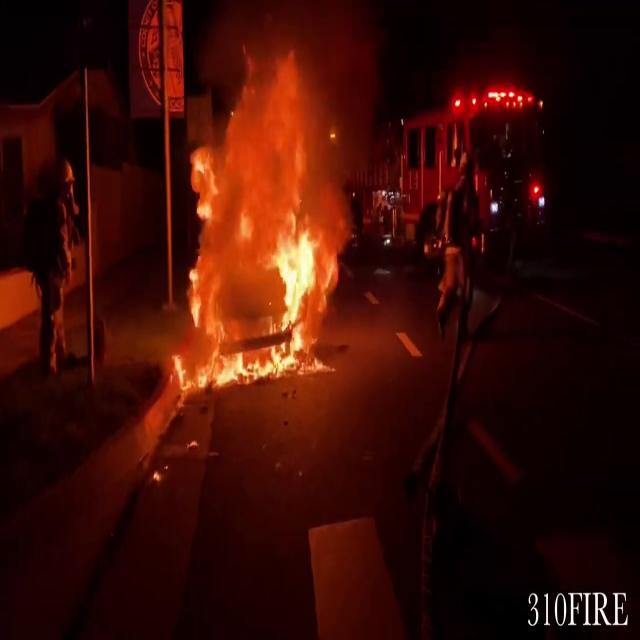Fire: (180, 214, 332, 385)
Smoke: (215, 0, 382, 227)
